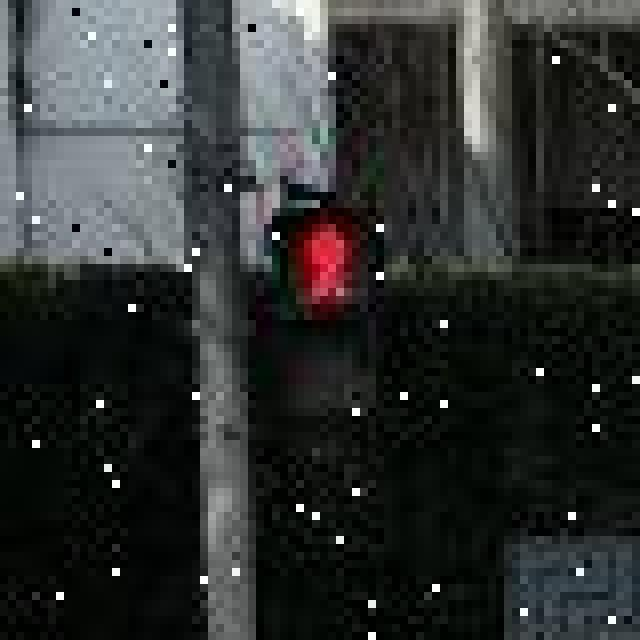redlight: (274, 198, 360, 424)
